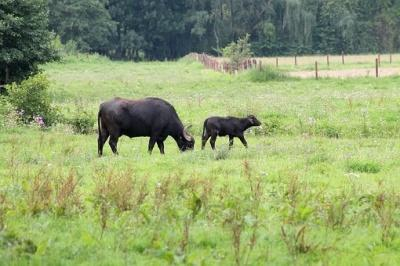buffalo: (98, 97, 193, 156)
